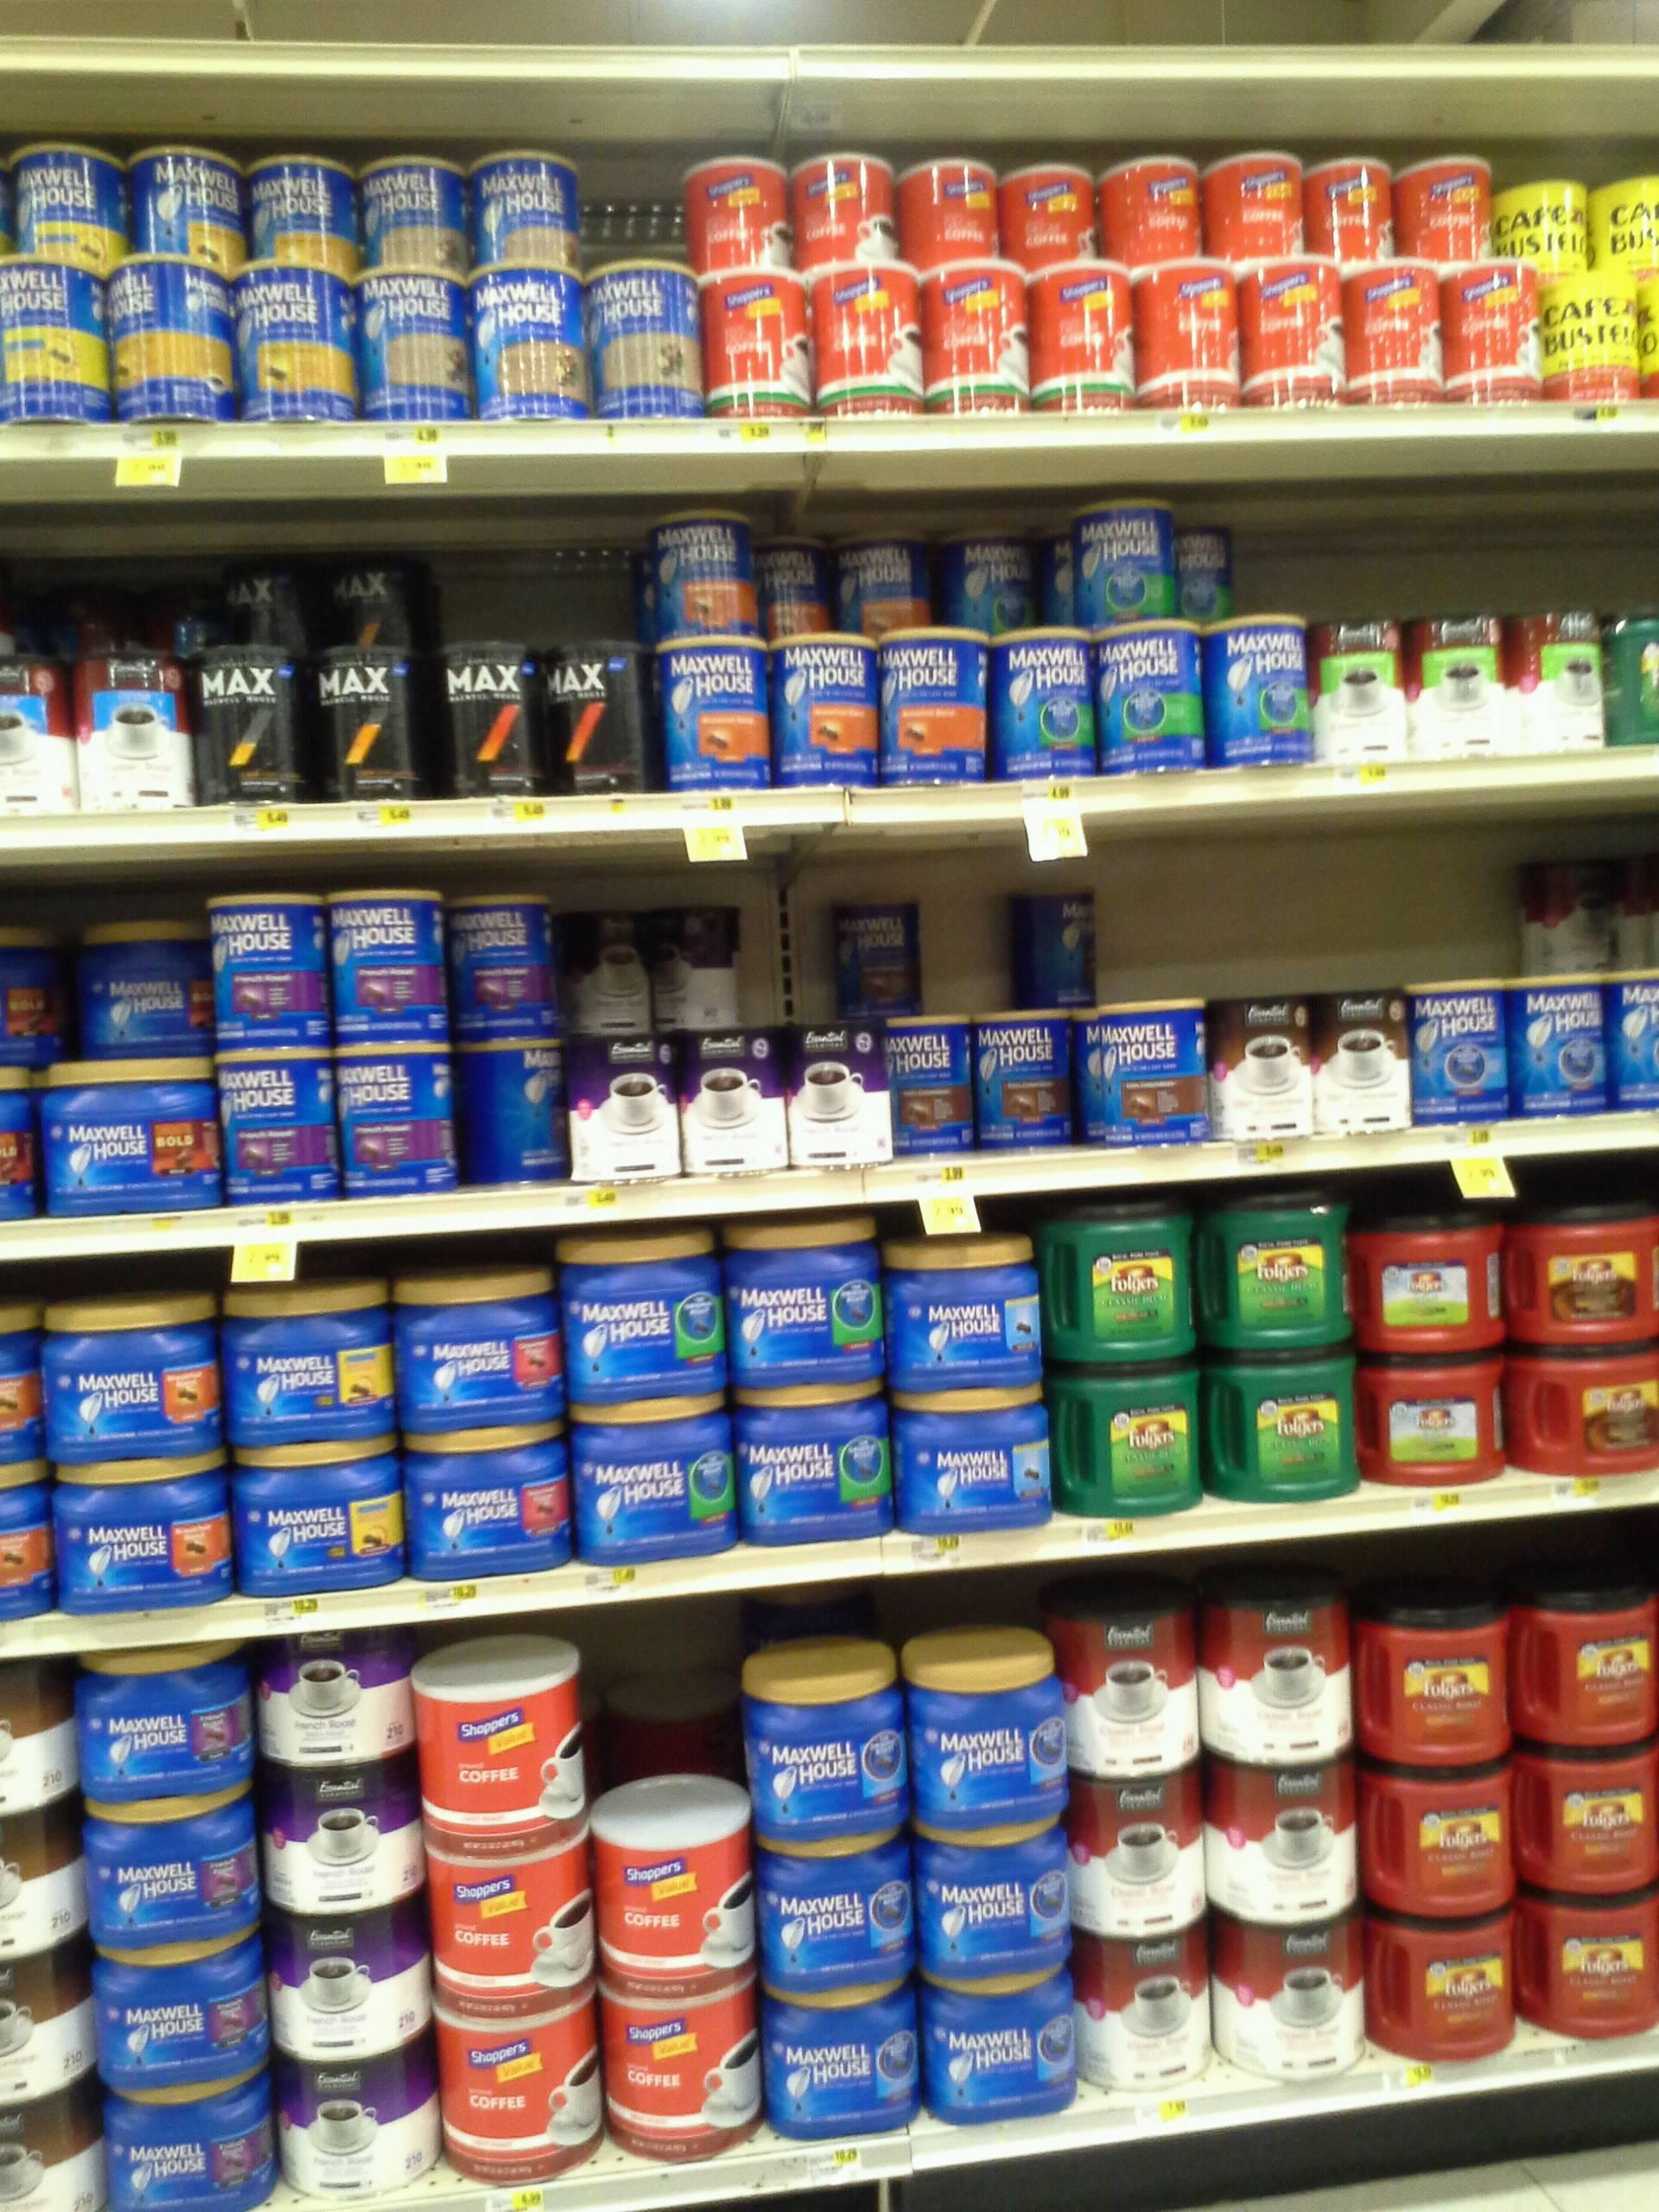empty: (586, 1648, 742, 1829), (1530, 474, 1659, 620), (1398, 470, 1527, 617), (1258, 469, 1387, 615), (509, 512, 622, 641), (1105, 867, 1218, 996), (734, 894, 847, 1021), (1227, 873, 1340, 1000), (1460, 855, 1574, 982), (915, 890, 1028, 1017), (1344, 867, 1455, 996)
